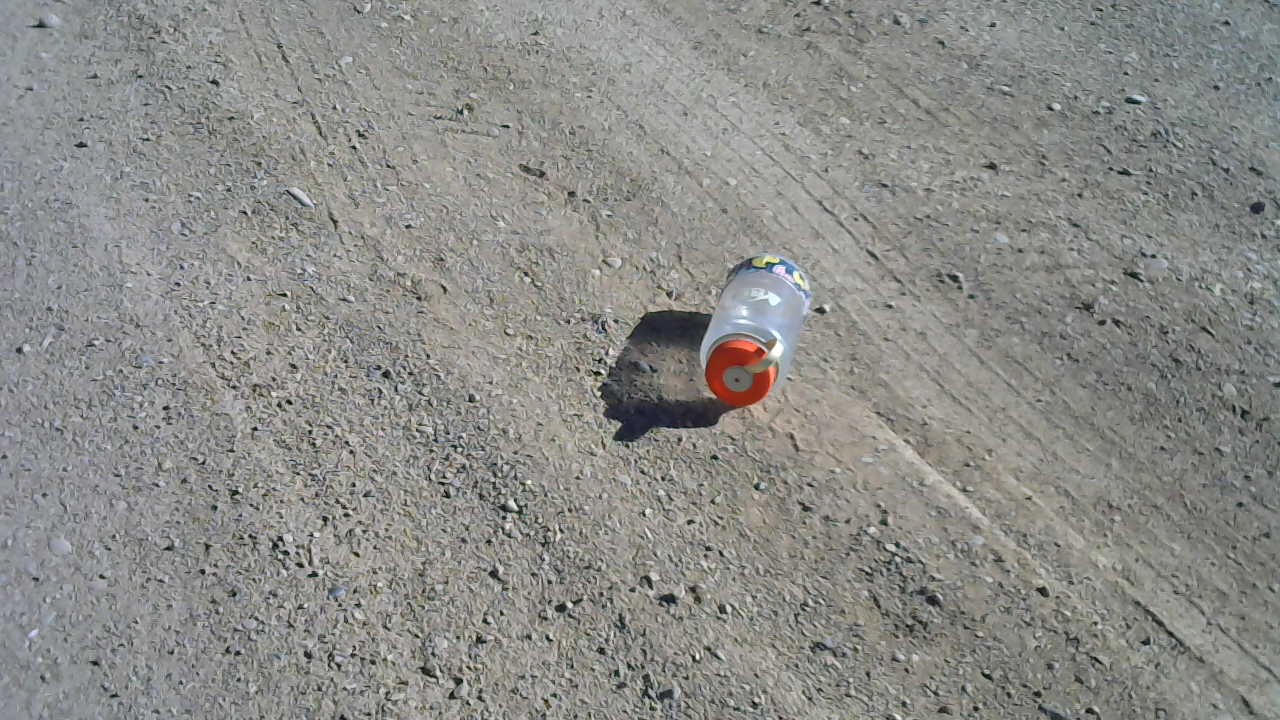bottle: (693, 248, 814, 408)
